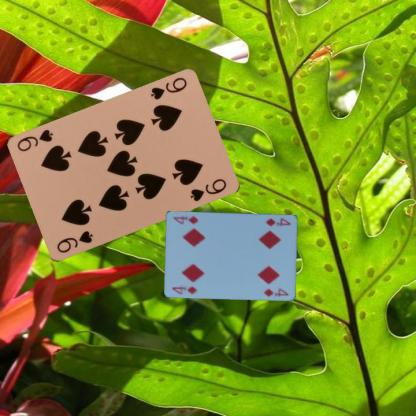4d: (170, 283, 199, 296), (263, 216, 292, 228)
9s: (54, 228, 94, 255), (148, 75, 188, 102)
